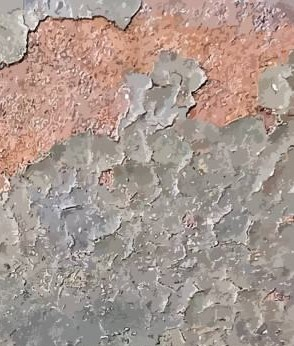Corrosion: (1, 1, 294, 196), (97, 168, 113, 188)
